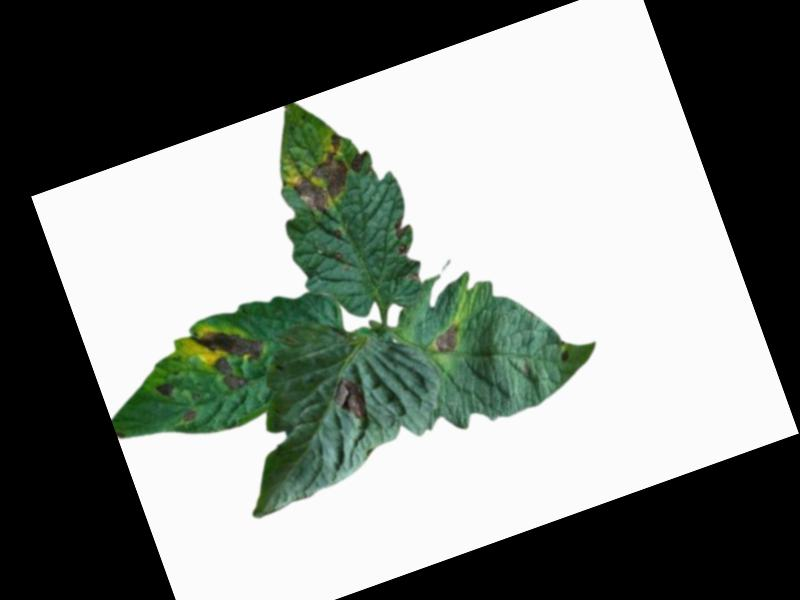Early_blight: (279, 130, 364, 219), (190, 314, 273, 400), (327, 370, 373, 427), (387, 215, 419, 257), (430, 323, 466, 356), (345, 147, 374, 175), (153, 378, 179, 400), (180, 408, 199, 424), (559, 348, 574, 365)
